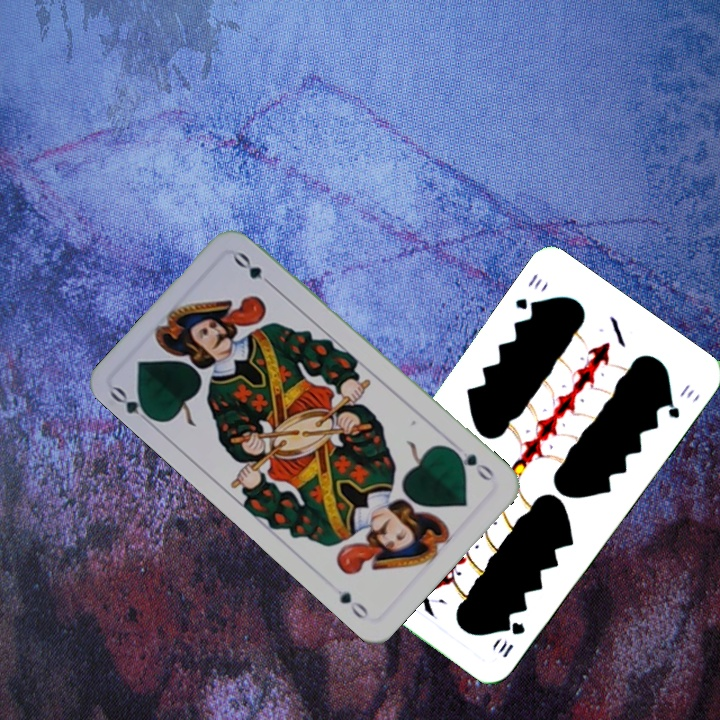G10: (511, 269, 545, 315), (495, 617, 528, 661)
GO: (106, 382, 160, 429), (447, 444, 497, 485)
